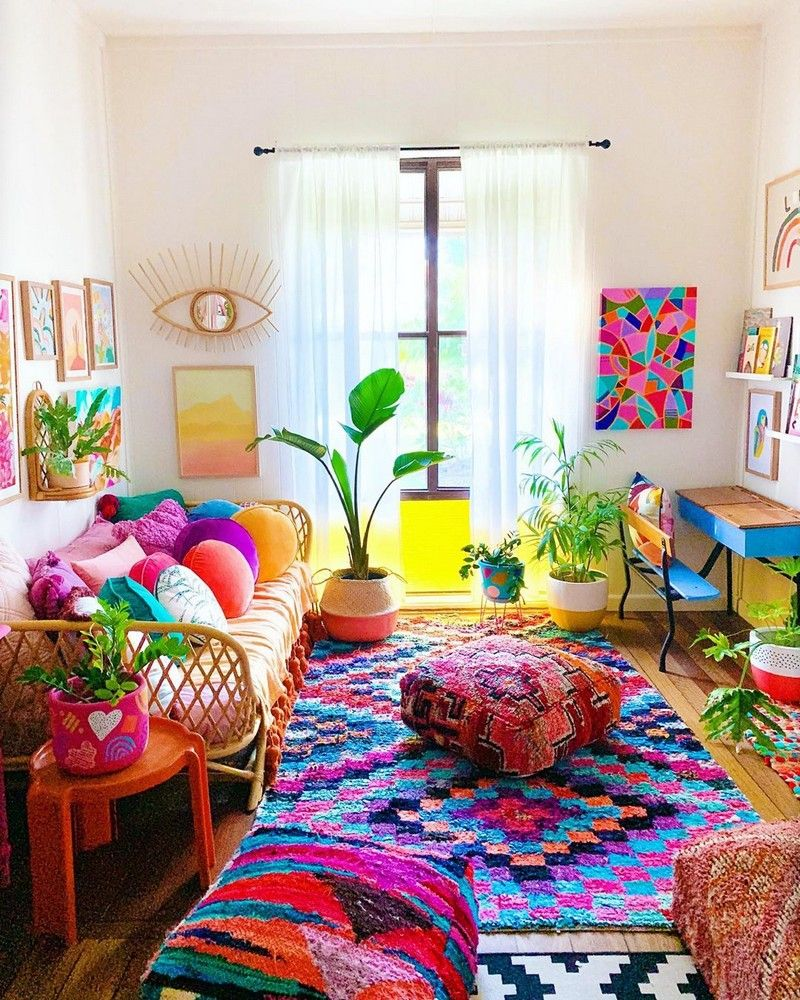biru: (740, 523, 800, 560)
coklat: (27, 729, 211, 917)
kuning: (400, 502, 472, 591), (229, 509, 294, 574)
merah: (181, 542, 258, 613)
